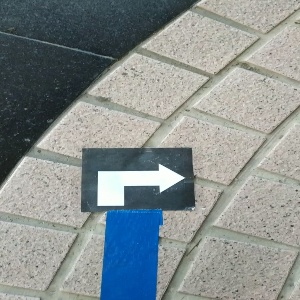right: (82, 147, 196, 210)
